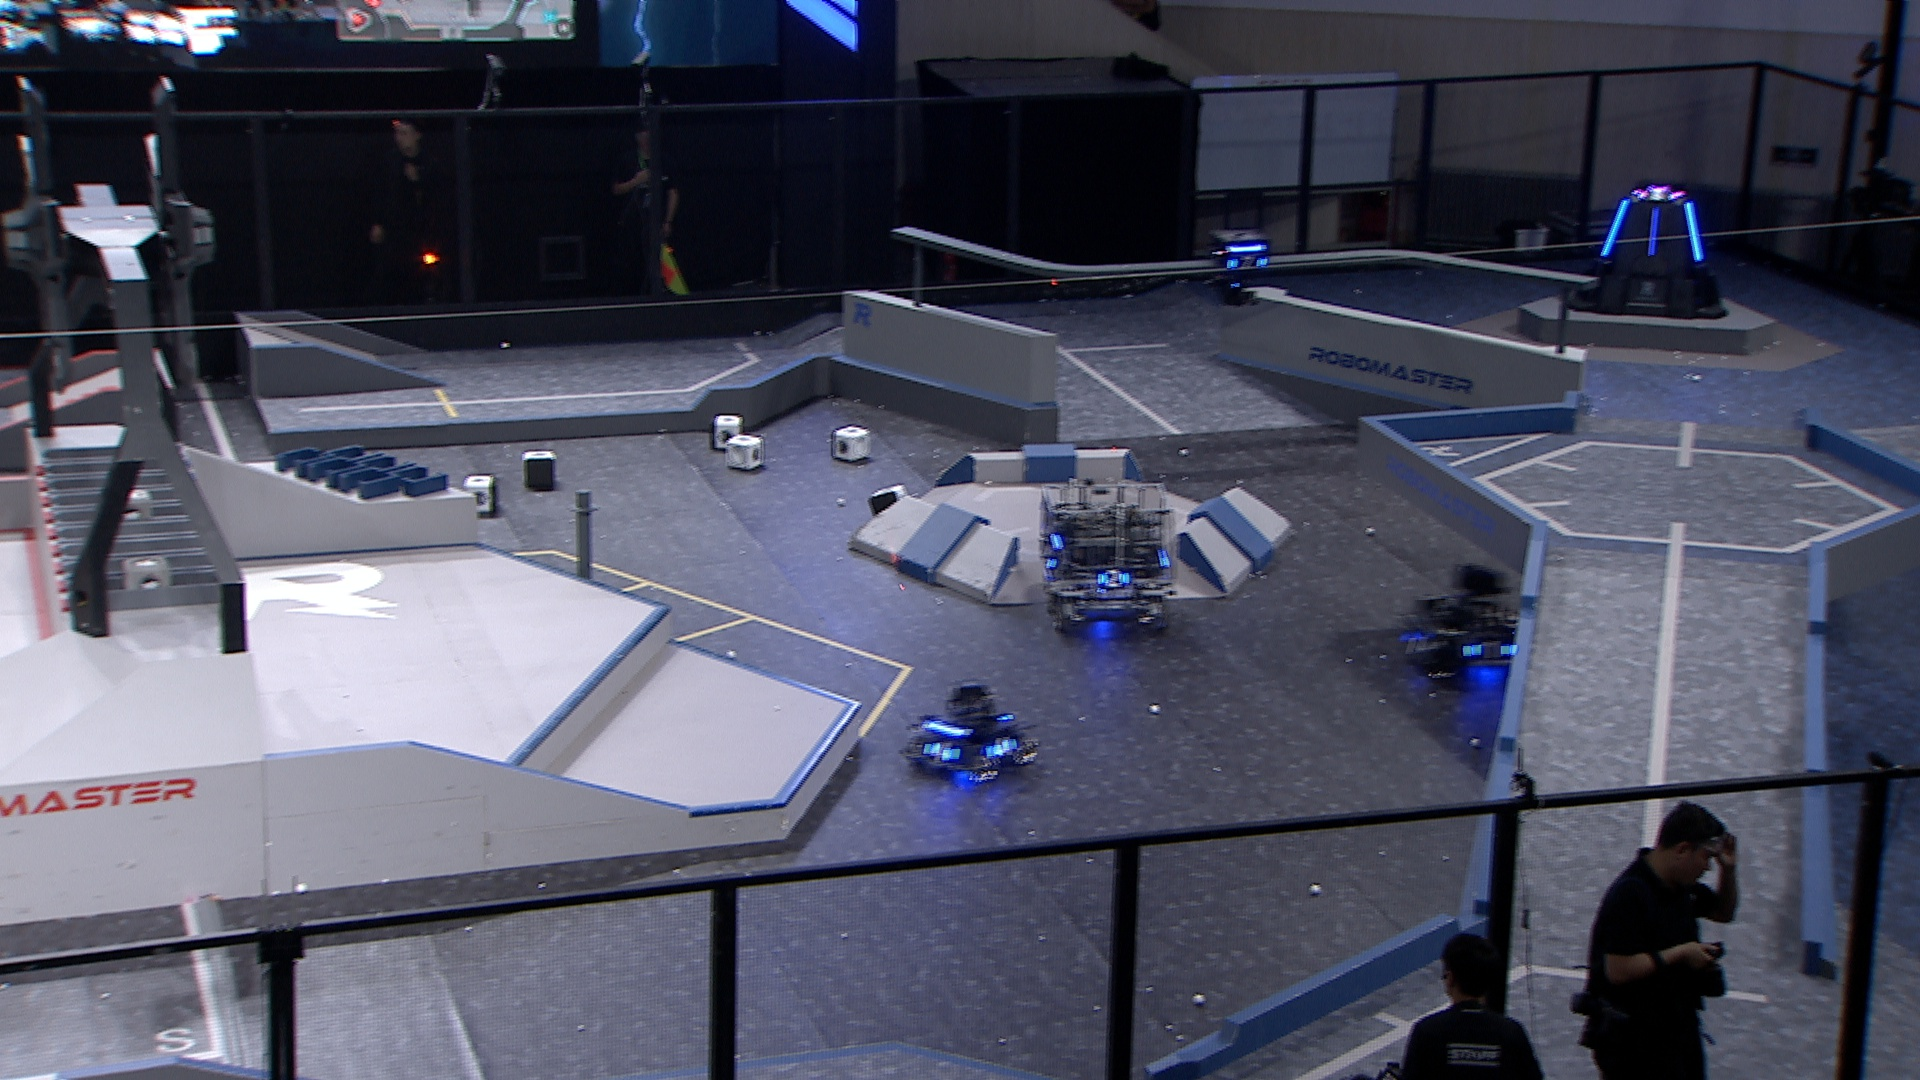armor: (1600, 196, 1631, 258), (1684, 200, 1704, 262), (923, 738, 956, 764), (1470, 638, 1505, 662), (1647, 204, 1660, 258), (1410, 632, 1437, 655), (988, 737, 1021, 757), (1100, 570, 1130, 589), (1232, 255, 1263, 273)
base: (1563, 179, 1727, 318)
car: (1035, 473, 1178, 633), (1396, 560, 1528, 687), (905, 678, 1034, 789)
ignore: (1634, 186, 1677, 200)
watcher: (1211, 225, 1273, 309)
